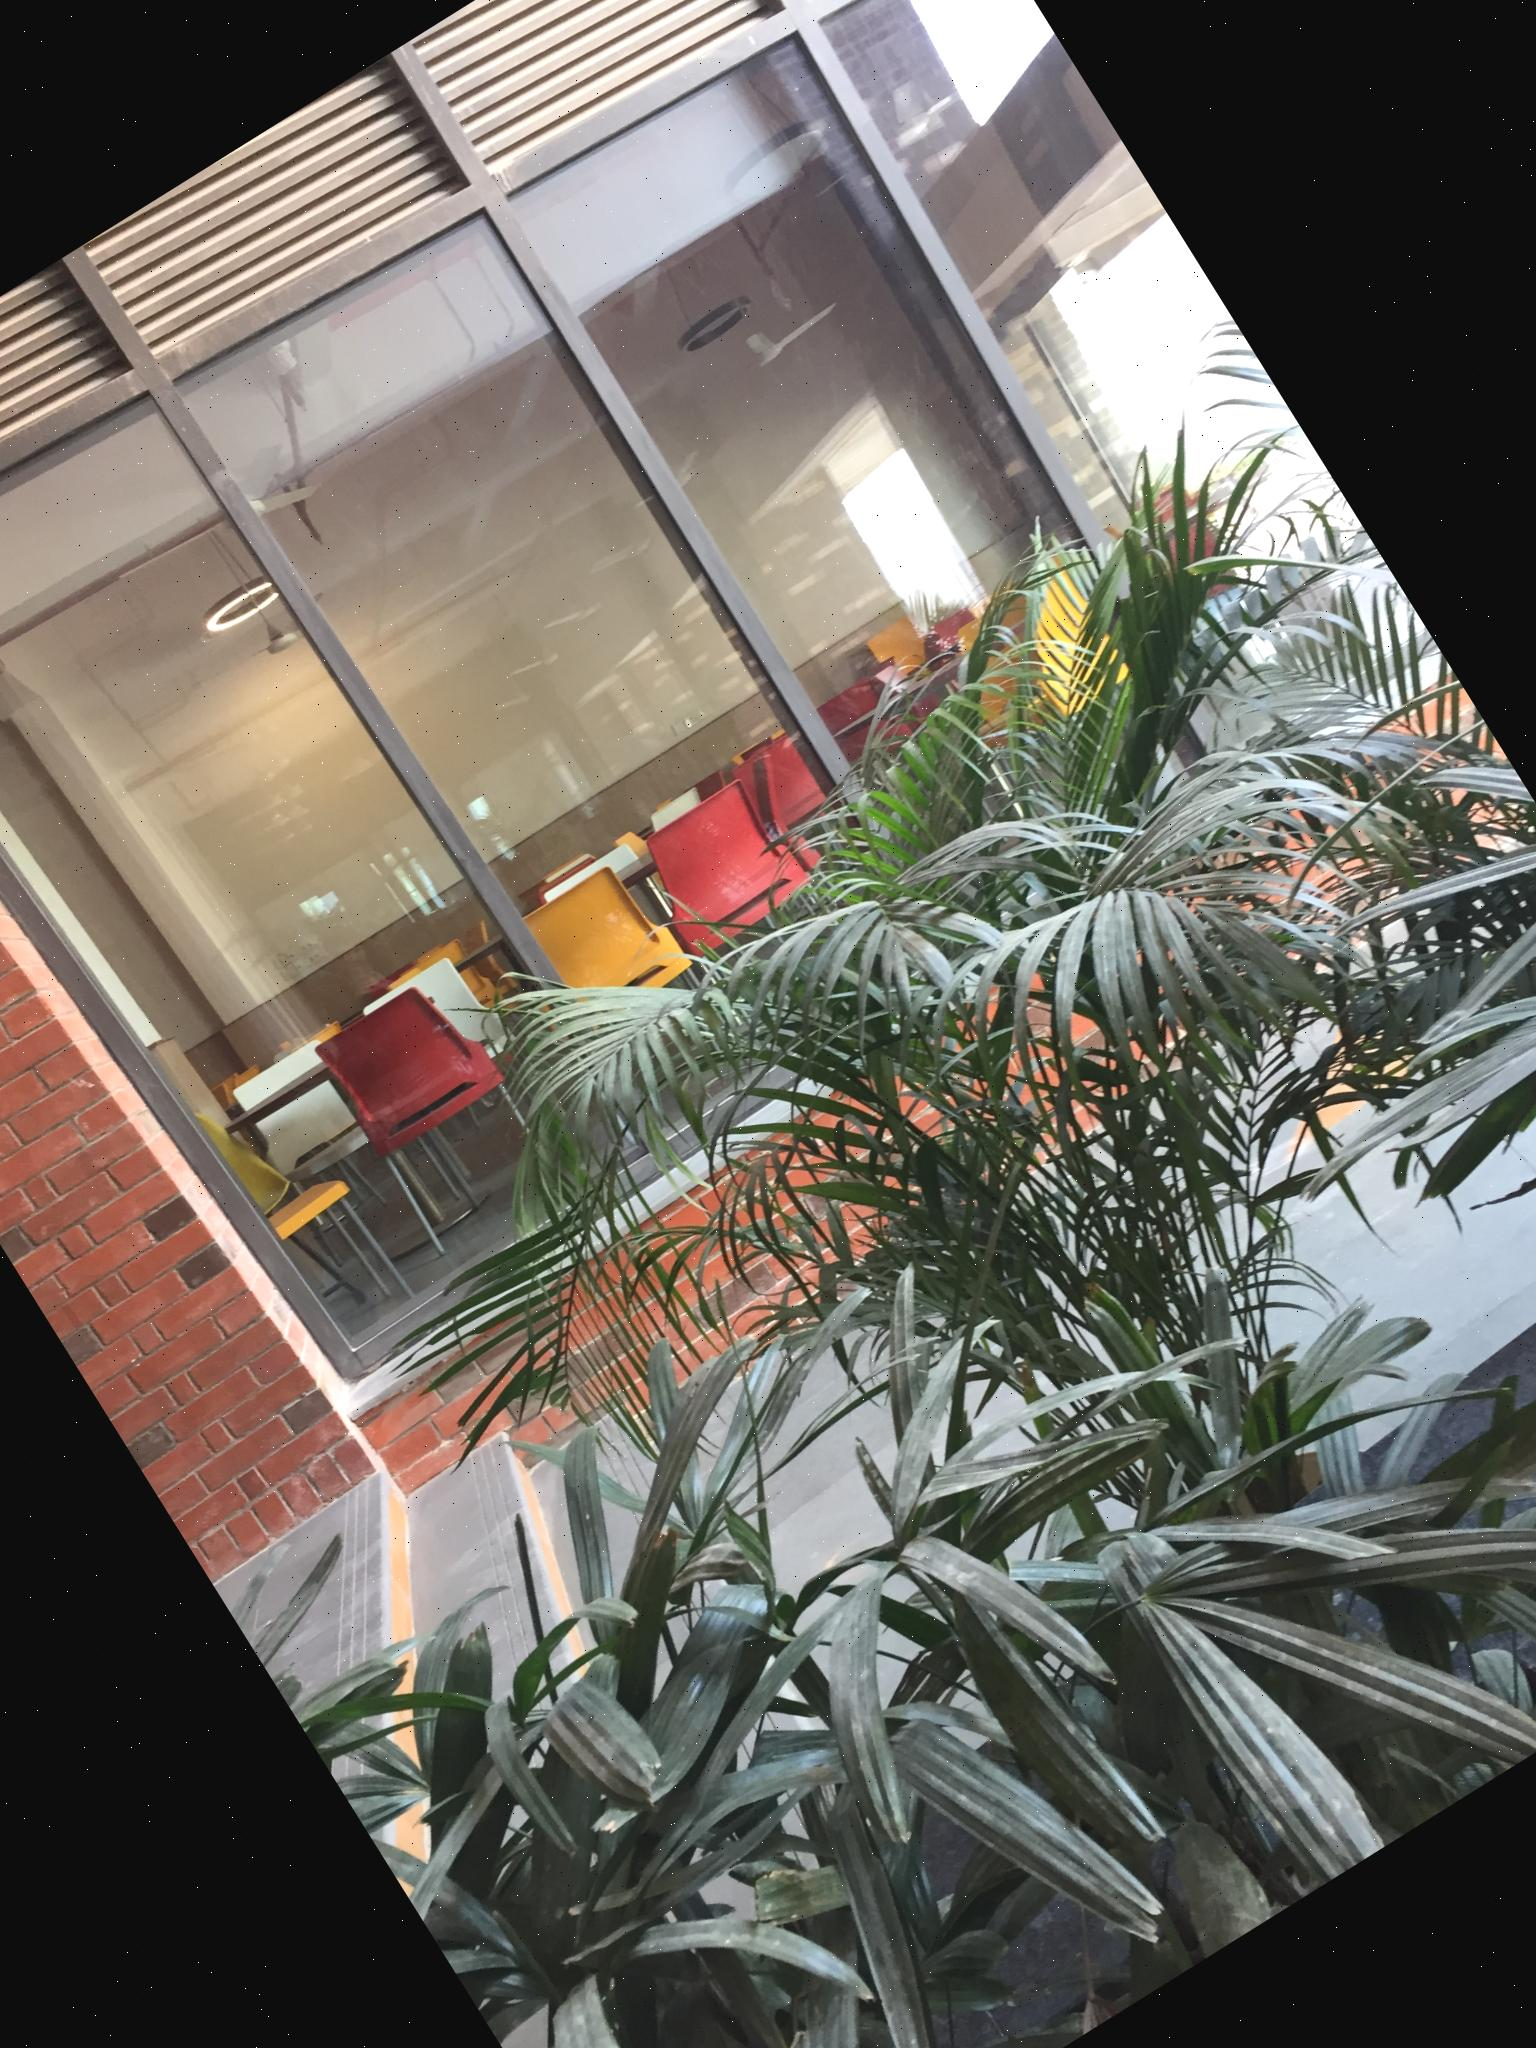chair: (308, 966, 570, 1258), (190, 1063, 416, 1343), (636, 774, 862, 1027), (231, 1027, 449, 1285), (502, 848, 729, 1092), (947, 564, 1165, 785), (363, 947, 563, 1177), (1100, 471, 1296, 698), (541, 840, 681, 985), (758, 734, 870, 877), (812, 677, 921, 795), (636, 779, 713, 839)
